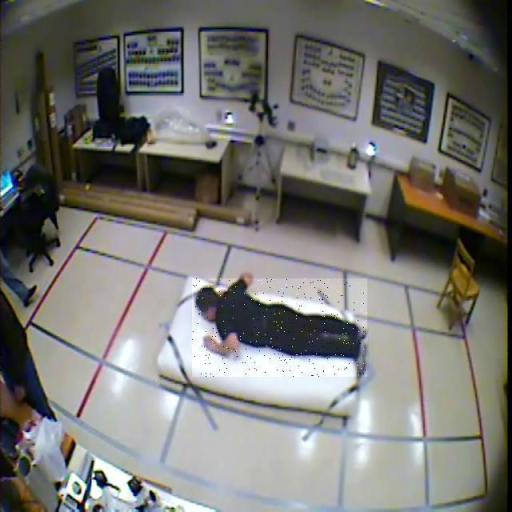Fall: (192, 278, 367, 377)
